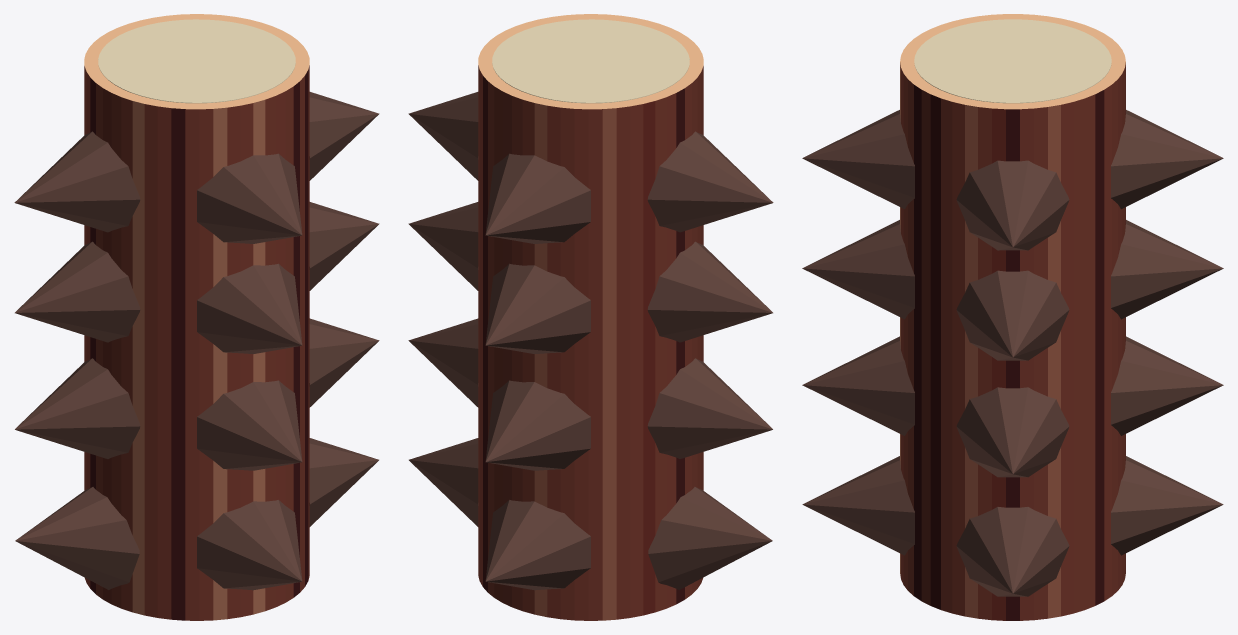
The model's file is pinchos.fbx.
The picture shows the model from 3 angles, left to right: view 1: azimuth 30°, elevation 25°; view 2: azimuth 150°, elevation 25°; view 3: azimuth 270°, elevation 25°; orthographic projection.
Parts seen in each view (by area): view 1: Pinchos; view 2: Pinchos; view 3: Pinchos.
Boxes of the visible parts, left/top/right/bottom form: Pinchos: left=14, top=14, right=379, bottom=620; Pinchos: left=408, top=14, right=773, bottom=620; Pinchos: left=802, top=14, right=1223, bottom=620.
Bounding box in the file's own units: 374 × 501 × 374.
Materials: 1 (1 with a texture image).
